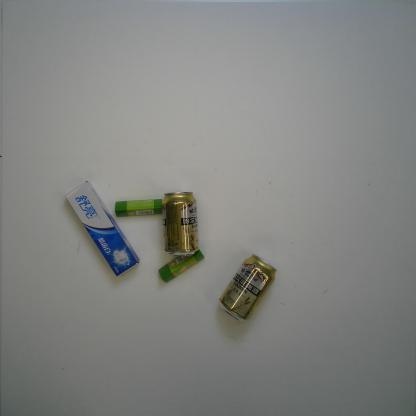Alcohol: (217, 253, 280, 325), (159, 190, 199, 257)
Personal Hygiene: (62, 177, 142, 280)
Stationery: (158, 247, 205, 284), (113, 197, 164, 219)
